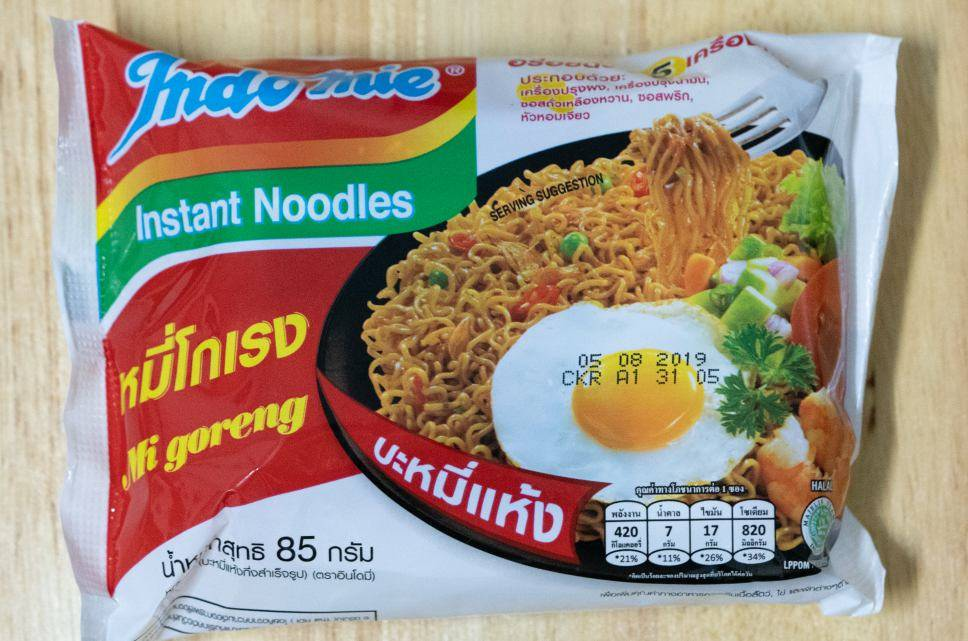Snack: (35, 7, 909, 641)
